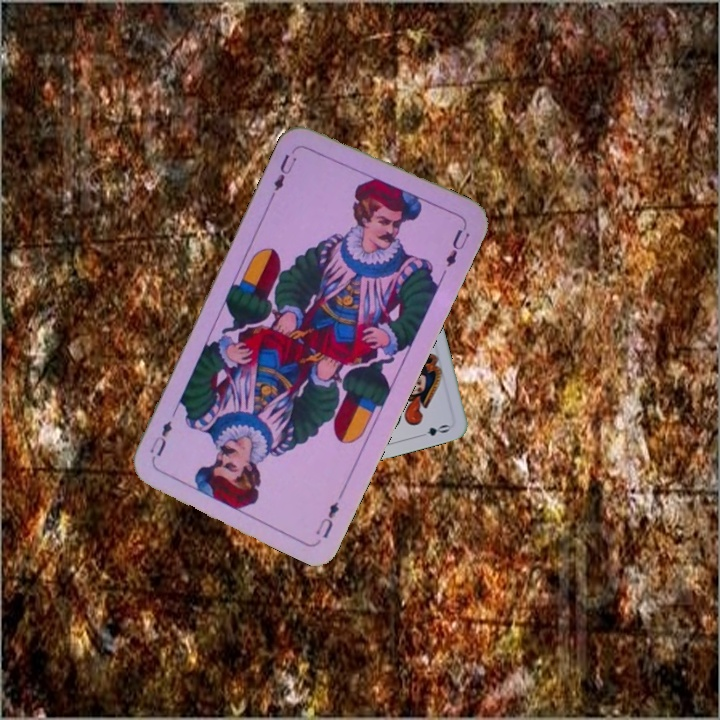EU: (267, 143, 300, 199), (311, 497, 342, 541)
